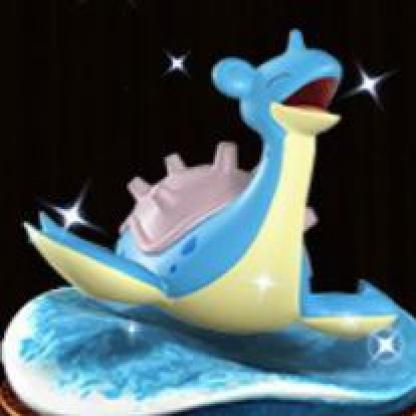Lapras: (5, 31, 358, 330)
